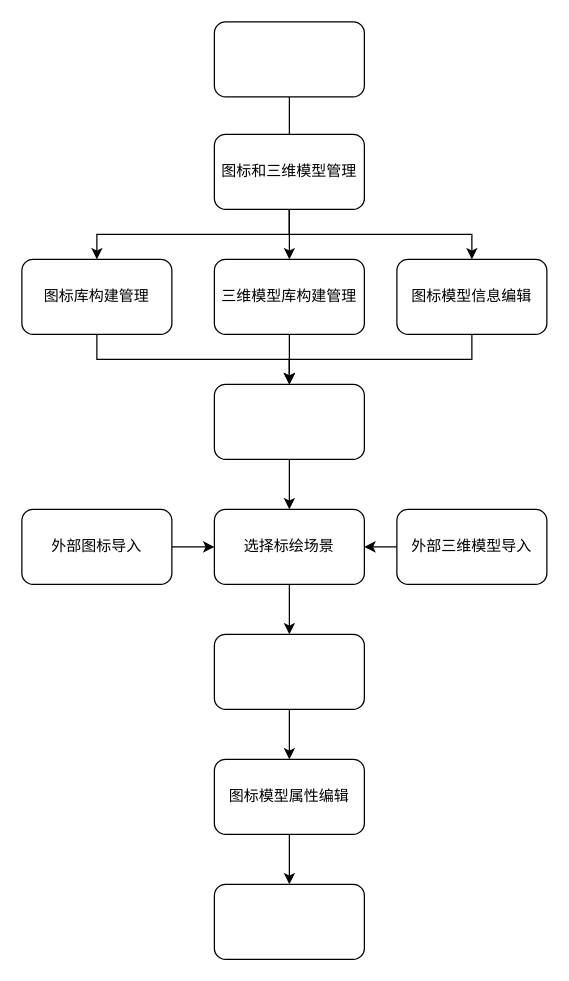
Image size: 569x981. Some labels were removed from this diagram. Here are the shapes that lost their labels. From the top down, the box of each, then its label:
(213, 21, 364, 97): 模型标绘模块
(213, 383, 364, 459): 图标和模型标绘
(213, 633, 364, 709): 图标模型放置调整
(213, 883, 364, 959): 军标信息保存输出
